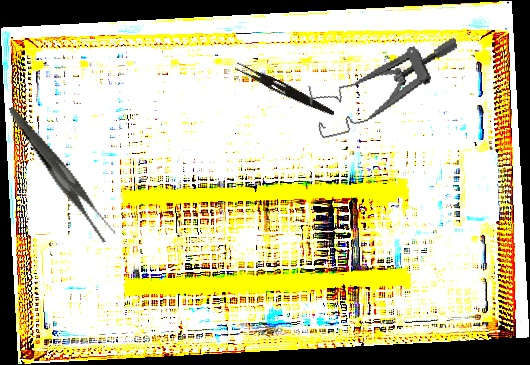Dressing Forceps: (8, 88, 118, 258), (232, 61, 338, 118)
Speculum: (303, 36, 471, 140)
